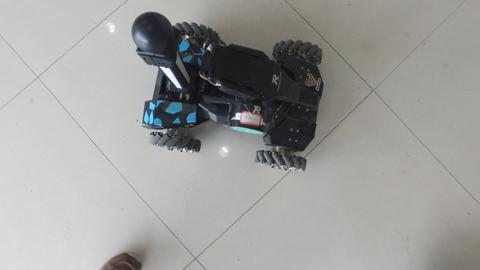chariot: (120, 10, 322, 174)
